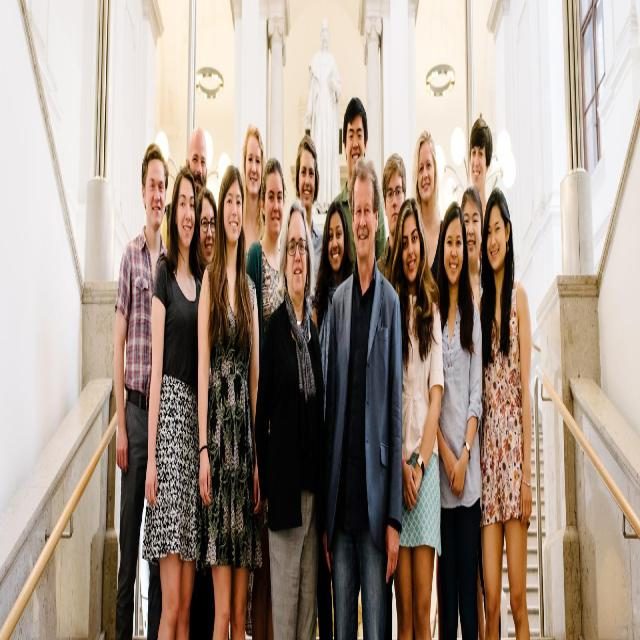body: (322, 150, 404, 639), (139, 162, 211, 639), (252, 194, 328, 639), (194, 162, 260, 640), (112, 139, 169, 640), (478, 182, 533, 640), (388, 195, 444, 640), (434, 199, 482, 640), (245, 155, 288, 640), (311, 196, 355, 640), (458, 183, 487, 640), (331, 95, 387, 274), (159, 123, 209, 287), (303, 13, 342, 222), (409, 128, 446, 285), (294, 132, 324, 321), (374, 149, 408, 301), (239, 122, 270, 271), (467, 116, 494, 230), (196, 185, 218, 298)
